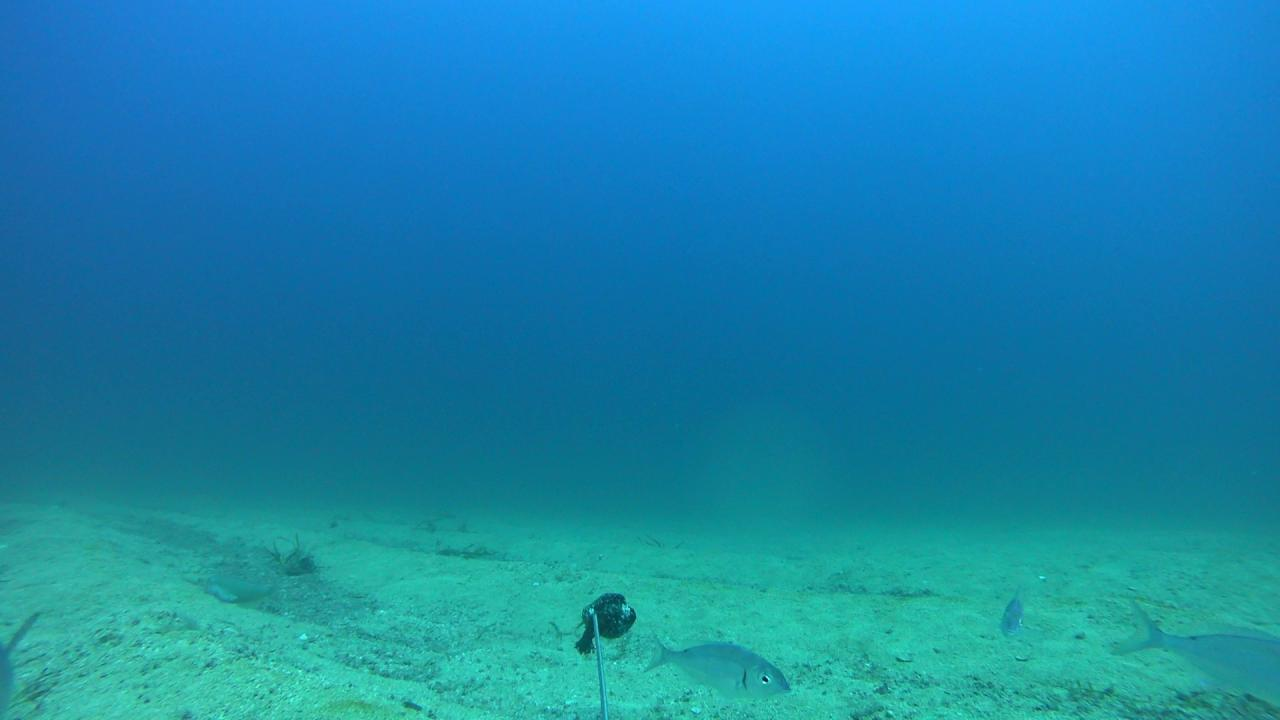pagellus: (643, 630, 791, 698), (998, 594, 1022, 639)
